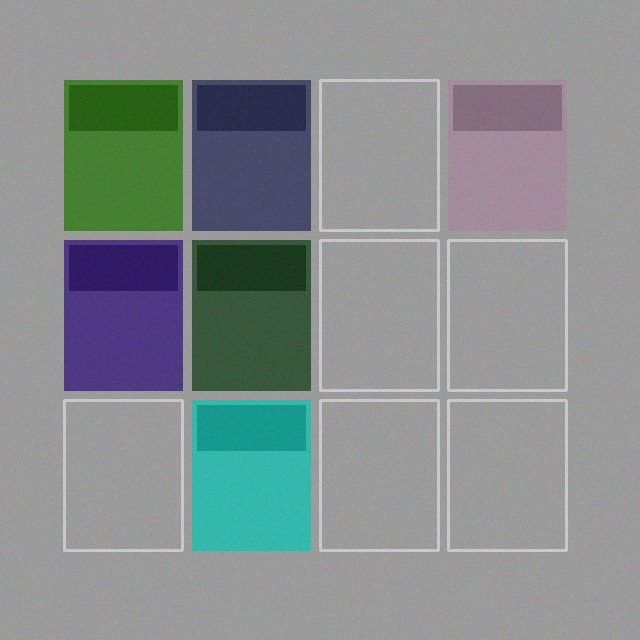space-empty: (320, 80, 438, 230), (320, 240, 438, 390), (448, 240, 566, 390), (64, 400, 182, 550), (320, 400, 438, 550), (448, 400, 566, 550)
space-occupied: (64, 80, 182, 230), (192, 80, 310, 230), (448, 80, 566, 230), (64, 240, 182, 390), (192, 240, 310, 390), (192, 400, 310, 550)
